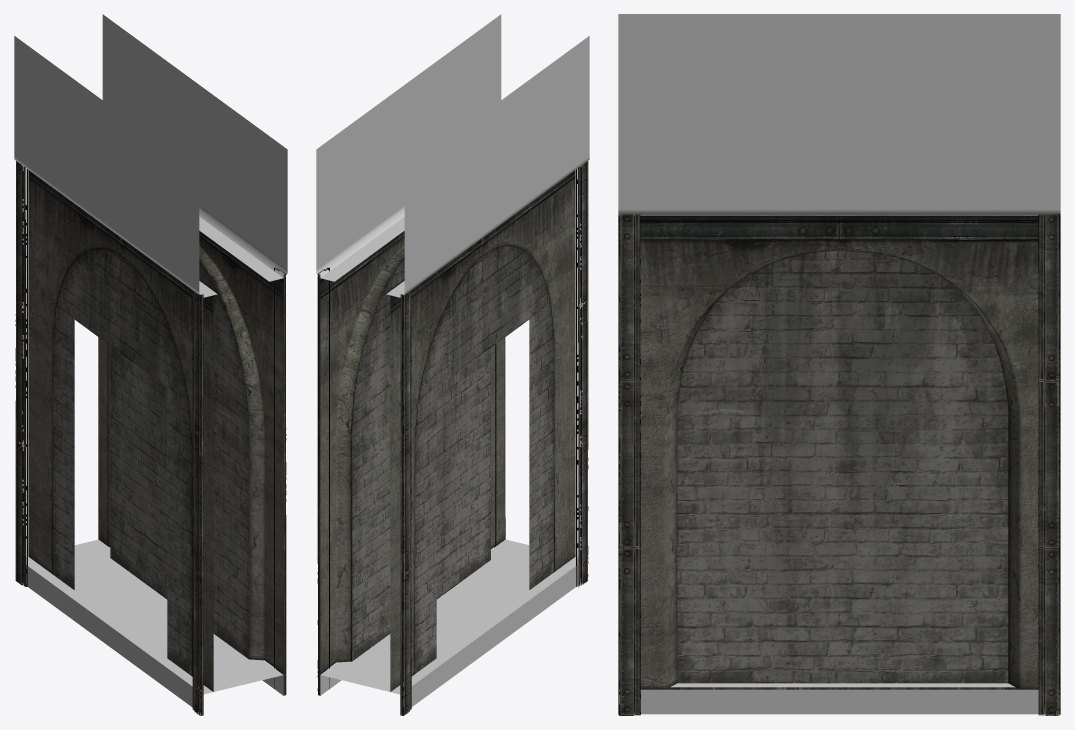
The model's file is tesla_ents_door_01_frame.dae.
3 renders of one model, left to right at view 1: azimuth 30°, elevation 25°; view 2: azimuth 150°, elevation 25°; view 3: azimuth 270°, elevation 25°, orthographic. The views are drawn at different scales.
Parts seen in each view (by area): view 1: polySurface127, polySurface126, polySurface124; view 2: polySurface127, polySurface126, polySurface124; view 3: polySurface127, polySurface126, polySurface124.
Boxes of the visible parts, x1,y1,x2,y2 form: polySurface127: (28,170,283,691); polySurface126: (14,14,287,712); polySurface124: (15,161,286,715); polySurface127: (320,170,575,691); polySurface126: (316,14,589,706); polySurface124: (317,161,588,715); polySurface127: (618,215,1060,689); polySurface126: (618,14,1060,714); polySurface124: (618,214,1060,715).
Bounding box in the file's own units: 110 × 650 × 400.
